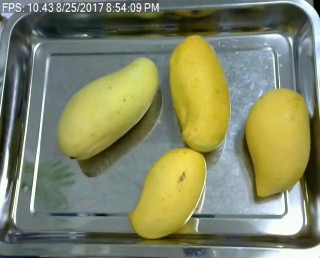Mango: (55, 57, 160, 160), (168, 34, 232, 151), (127, 148, 208, 240), (245, 87, 311, 198)
